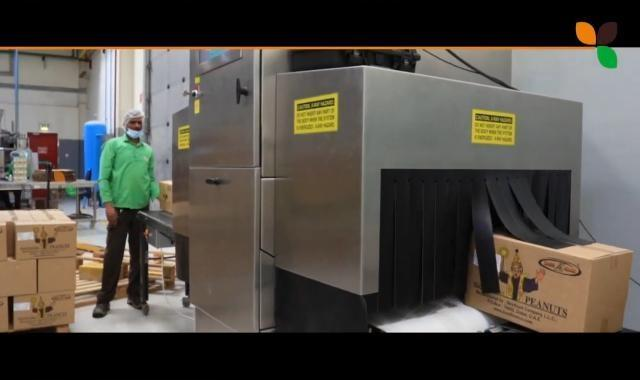gloves: (120, 110, 147, 128)
no_apron: (98, 198, 130, 227)
no_hairnet: (122, 119, 150, 144)
